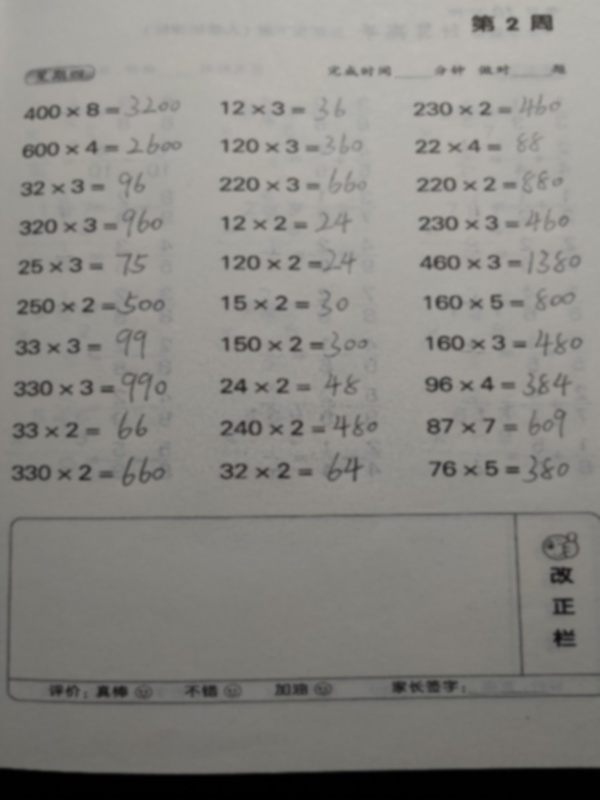equation: (8, 455, 168, 492), (9, 370, 175, 404), (216, 447, 367, 484), (423, 326, 586, 360), (17, 205, 166, 241), (427, 406, 576, 442), (417, 247, 585, 278), (426, 453, 573, 488), (216, 411, 385, 440), (221, 328, 374, 360), (424, 369, 576, 401), (420, 285, 579, 315), (410, 89, 566, 119), (14, 288, 169, 318), (10, 410, 155, 442), (219, 206, 363, 238), (413, 169, 566, 199), (415, 207, 578, 235), (217, 243, 359, 275), (219, 287, 352, 321), (217, 166, 367, 196), (217, 92, 357, 124), (216, 368, 370, 397), (12, 327, 156, 358), (413, 128, 553, 159), (17, 168, 155, 198), (19, 133, 189, 157), (216, 131, 366, 157), (20, 95, 172, 120), (15, 249, 153, 276)
